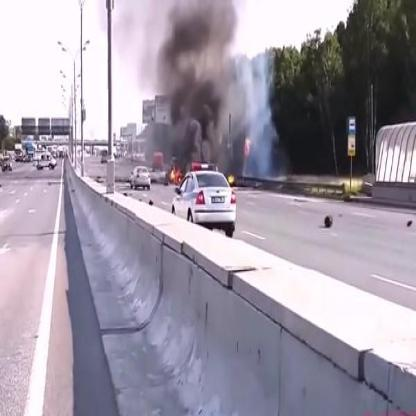fire: (166, 163, 183, 182), (243, 132, 251, 160), (227, 173, 236, 184)
